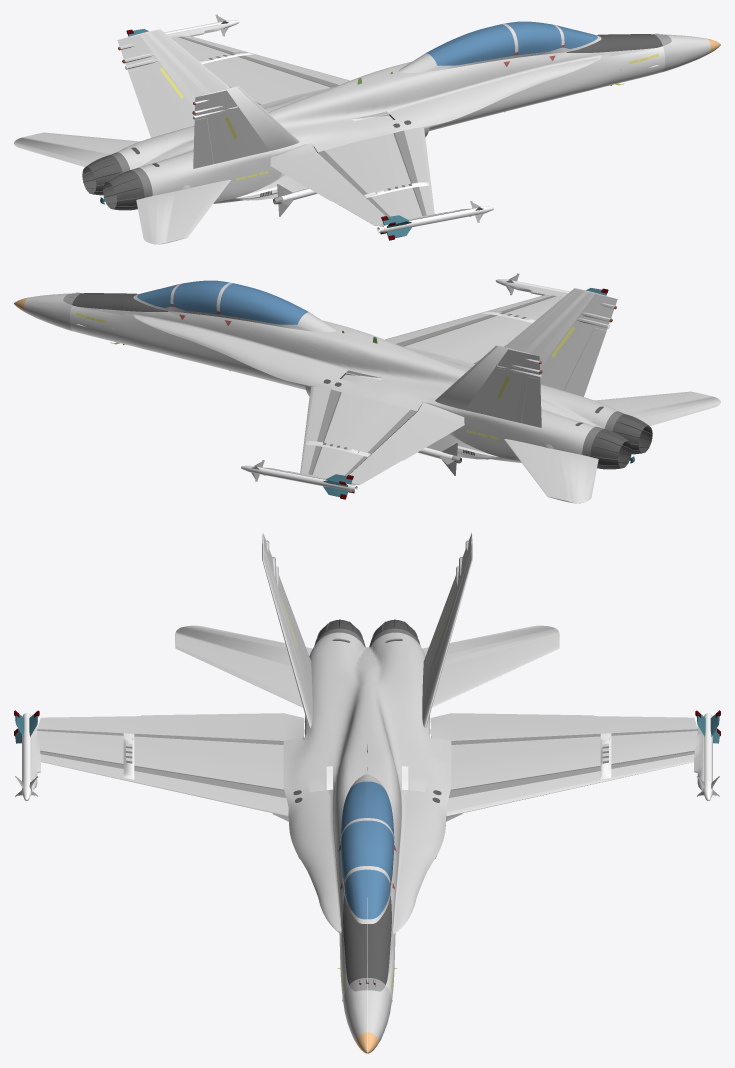
The picture shows the model from 3 angles, top to bottom: view 1: azimuth 30°, elevation 25°; view 2: azimuth 150°, elevation 25°; view 3: azimuth 270°, elevation 25°; orthographic projection. The views are drawn at different scales.
Parts seen in each view (by area): view 1: 3DSMeshMatrix (×16); view 2: 3DSMeshMatrix (×16); view 3: 3DSMeshMatrix (×11).
Boxes of the visible parts, <box> form: 3DSMeshMatrix (×16): <box>14,14,710,244</box>; 3DSMeshMatrix (×16): <box>24,273,720,503</box>; 3DSMeshMatrix (×11): <box>14,533,720,1043</box>.
Size of the model in its own units: 36.71 by 8.48 by 26.25.
